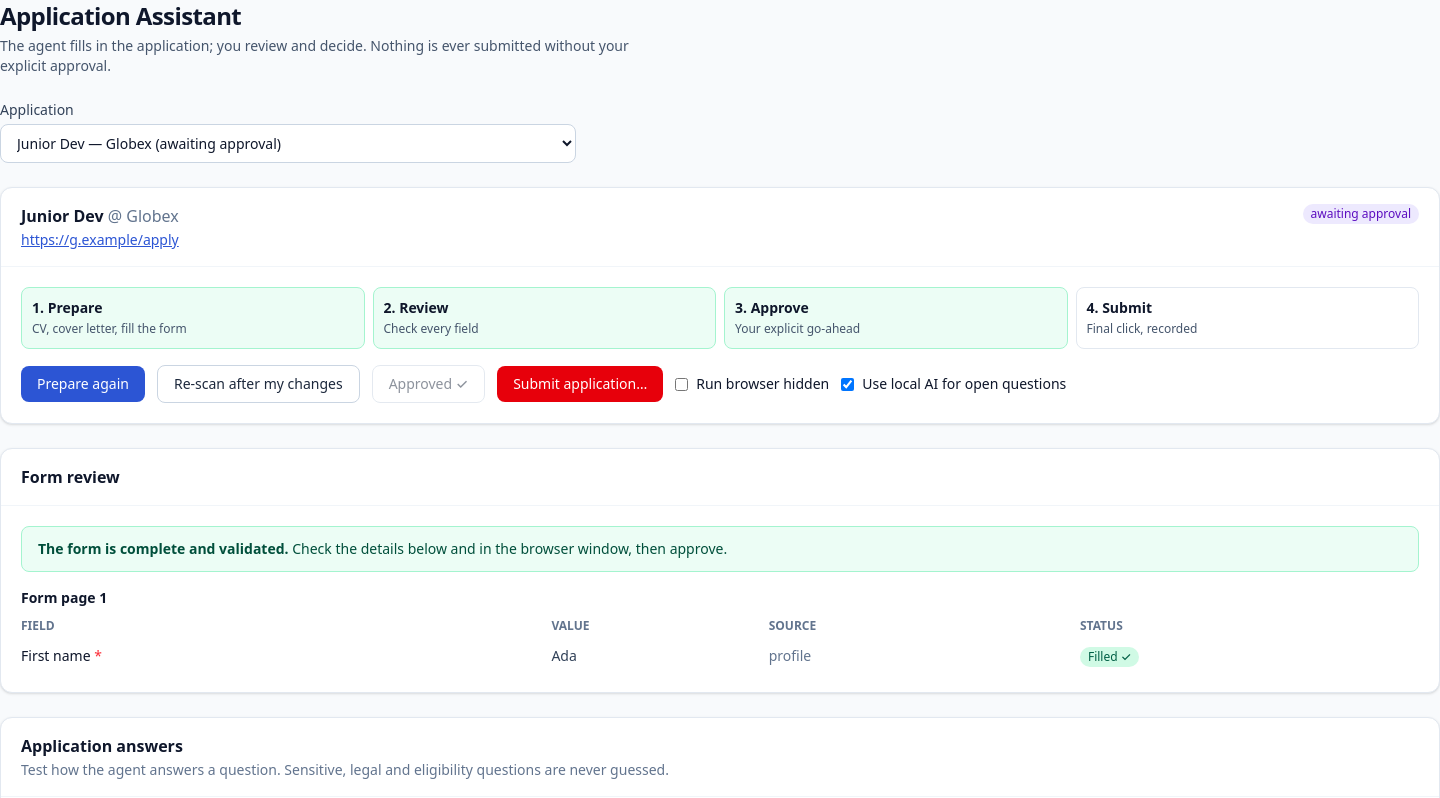
Test case: ApplicationAssistantPage — approval gate › submits with confirm=true only after the dialog is confirmed
This screenshot has width=1440, height=798.
Click the button "Submit application…".
click(580, 384)  # box [497,366,663,402]
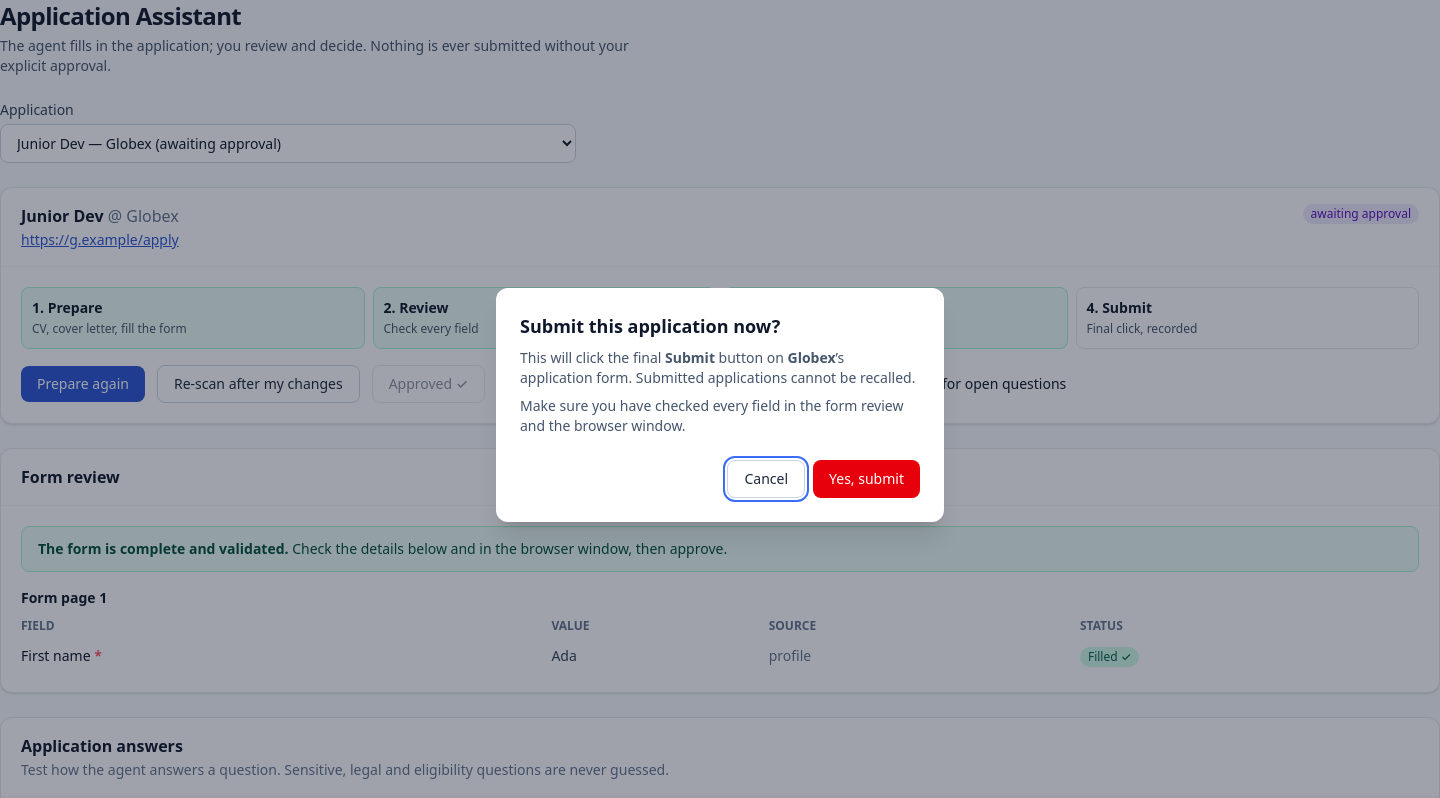
Click the button "Yes, submit".
click(866, 479)  # box [813,460,920,498]
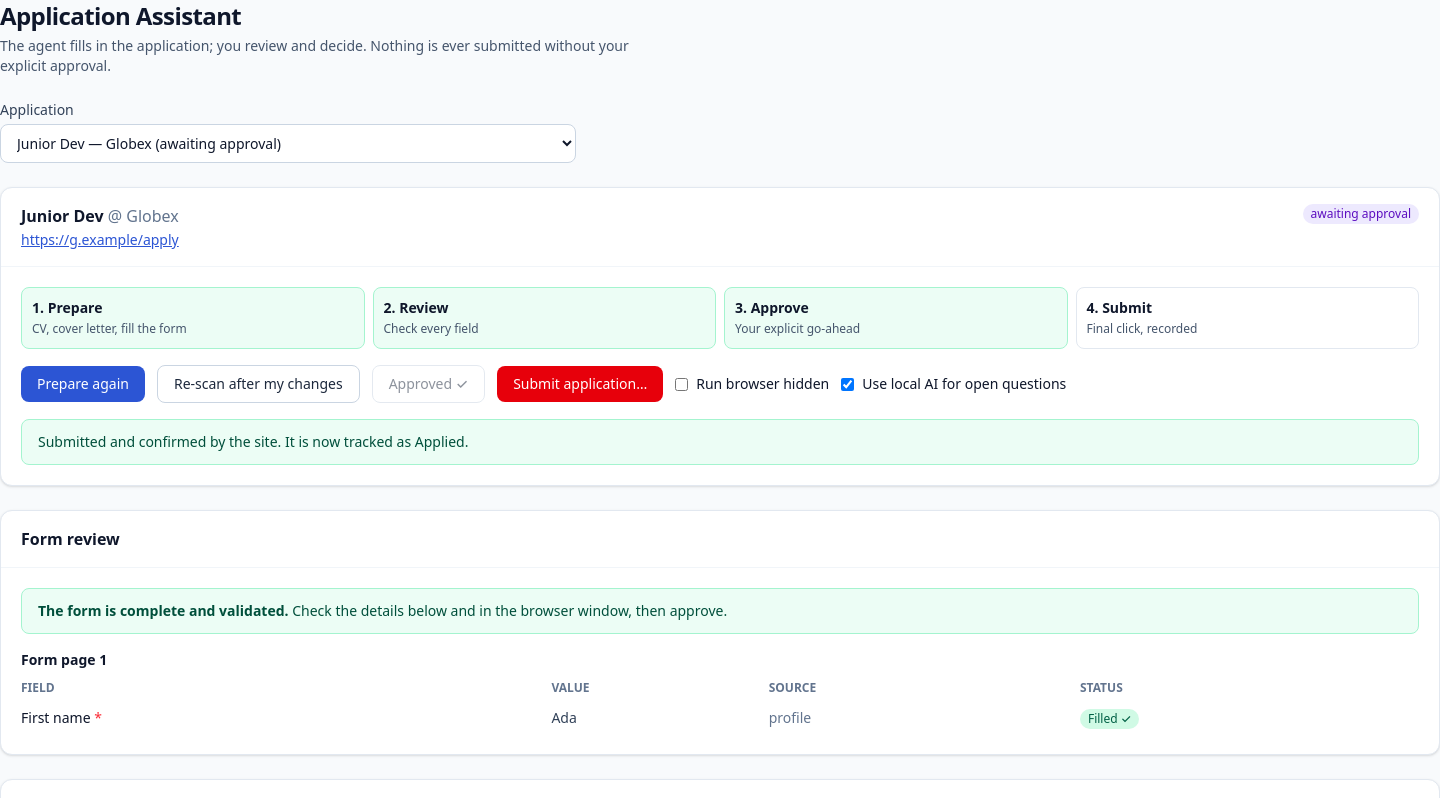
Expected: the text "Submitted and confirmed by the site. It is now tracked as Applied." is shown, [21,419,1419,465]
